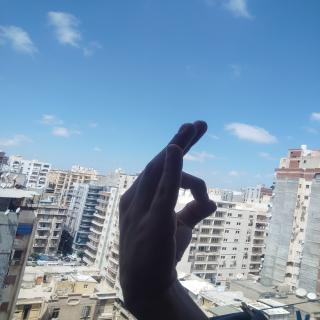Space: (107, 118, 228, 291)
